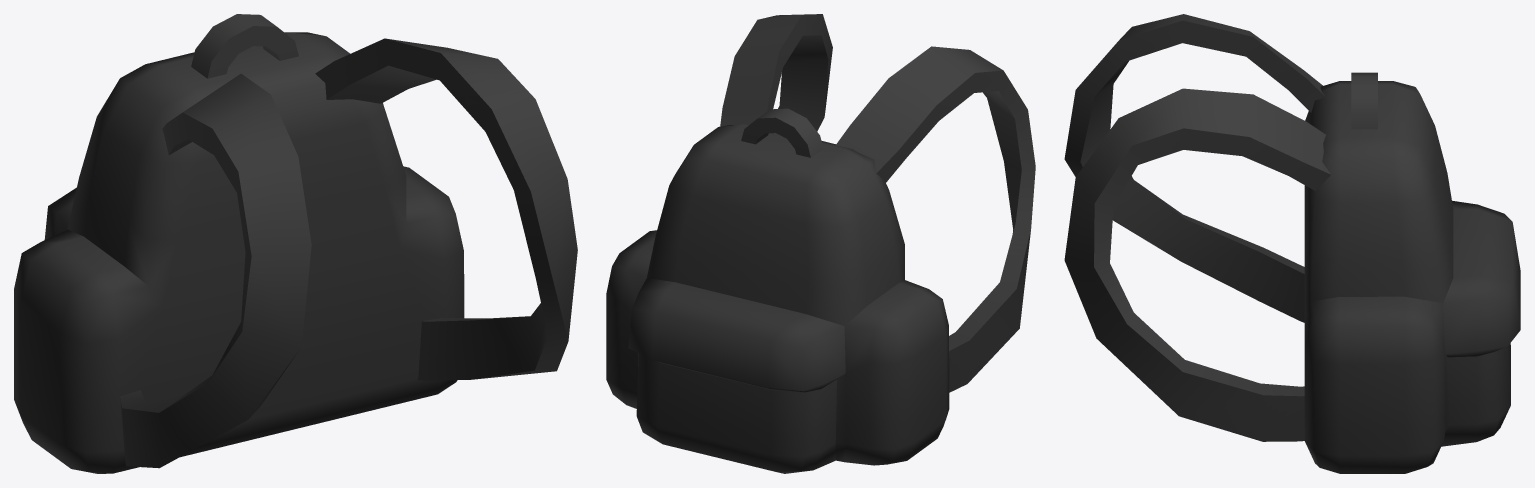
Rendered from Bag_2.fbx.
The picture shows the model from 3 angles, left to right: view 1: azimuth 30°, elevation 25°; view 2: azimuth 150°, elevation 25°; view 3: azimuth 270°, elevation 25°; orthographic projection. The views are drawn at different scales.
Parts seen in each view (by area): view 1: Bag_2; view 2: Bag_2; view 3: Bag_2.
Part boxes in pixels (x1,y1,x2,y2): Bag_2: [14, 14, 577, 473]; Bag_2: [606, 14, 1035, 473]; Bag_2: [1064, 14, 1520, 473].
Bounding box in the file's own units: 46.01 × 47.36 × 55.41.
